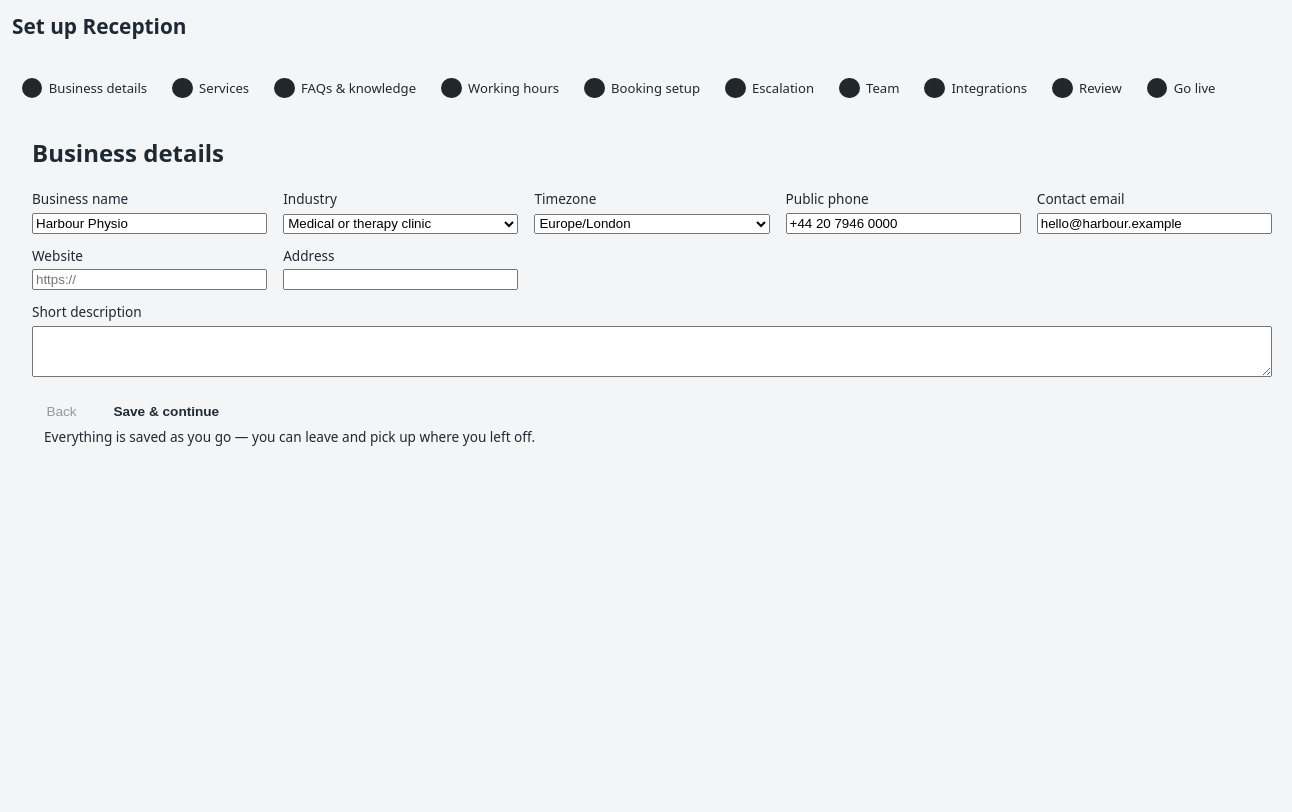
Test: setup wizard › saves the step's data, then asks the server to mark it complete
Type "Sports injuries." into the text box labelled "Short description".
click(652, 352); type("Sports injuries.")  # box [32,326,1272,377]
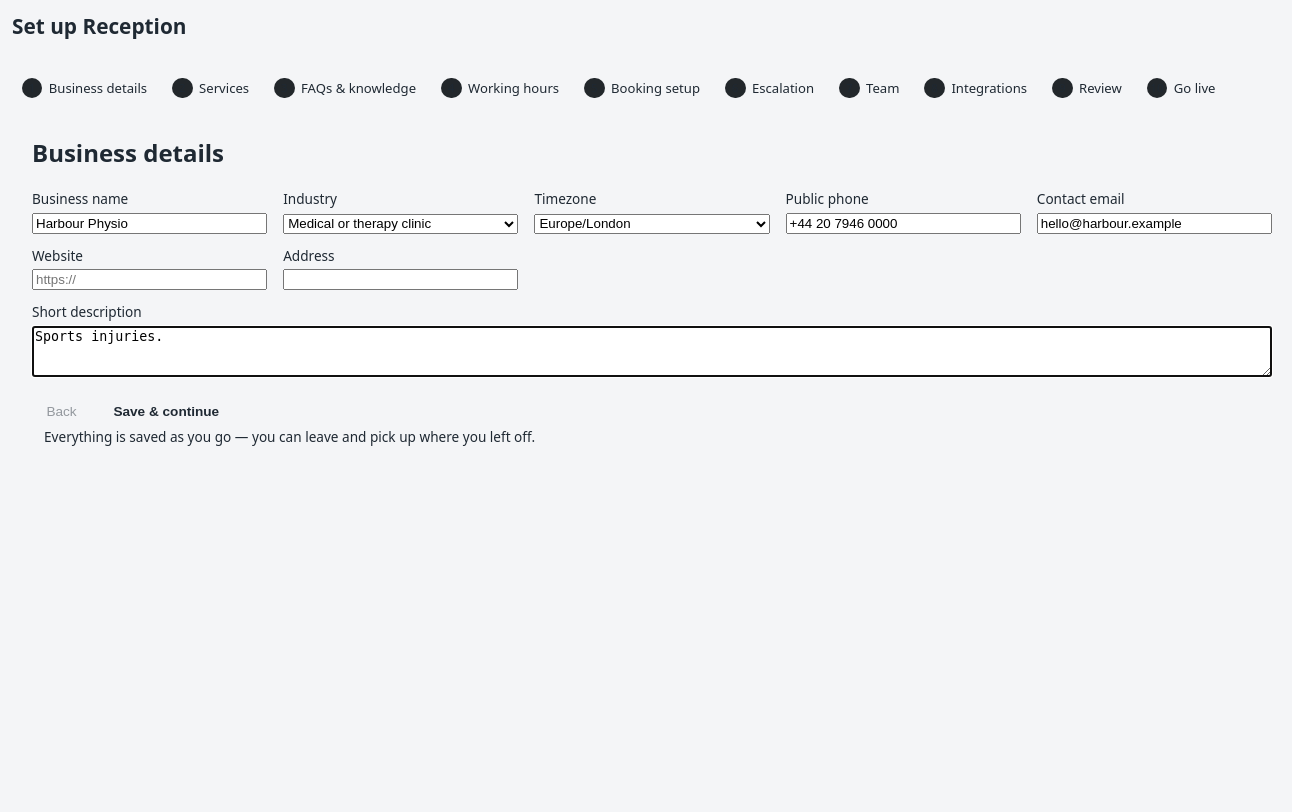
Click the button "Save & continue".
click(166, 412)  # box [99,397,234,427]
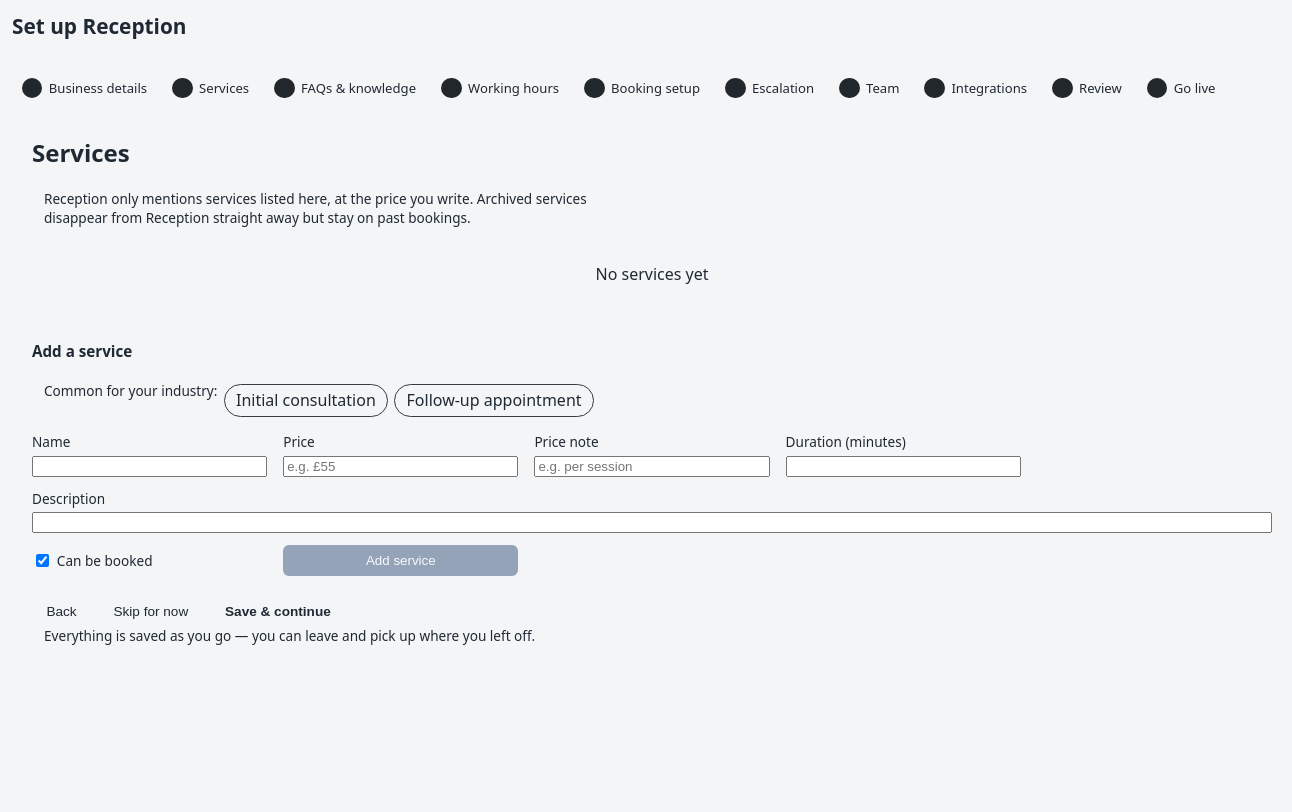
Check: the heading with test id "setup-step-title" reads "Services", box [32,136,130,169]
